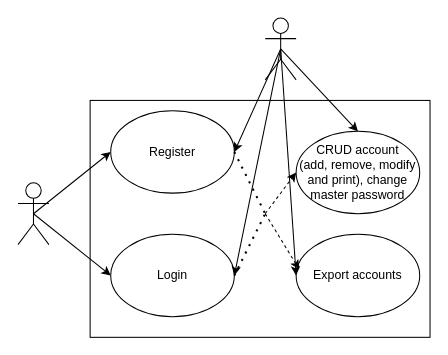
This 448x355 diagram has some shape labels left out. Here are the shapes that lost their labels. From the top down, the centre of each, then its label:
At (x=280, y=48): "FileManager".
At (x=33, y=213): "User".
